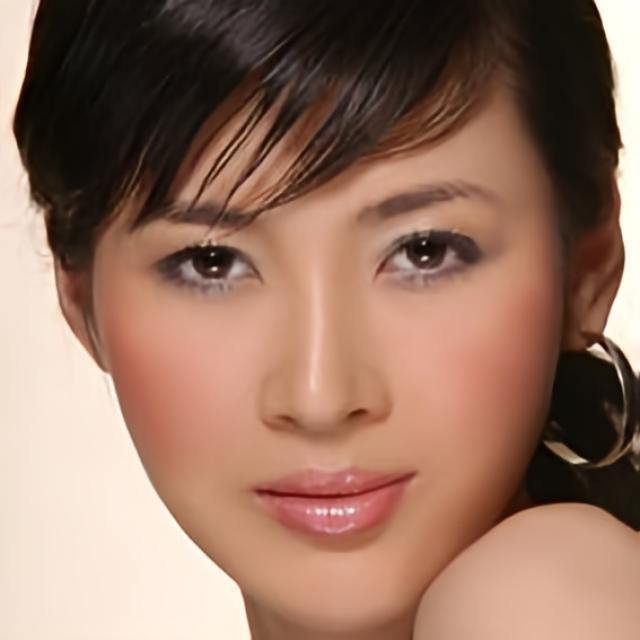content: (94, 29, 568, 640)
